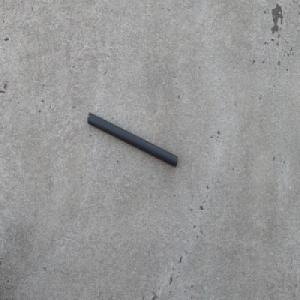LuggagePart: (86, 111, 178, 168)
